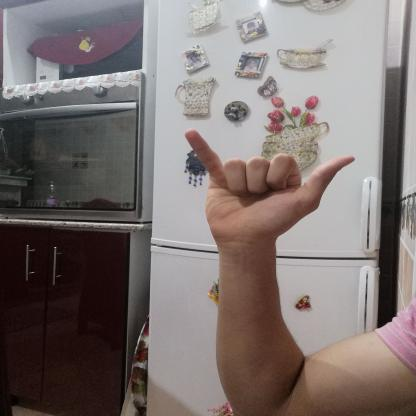YA: (166, 122, 366, 254)
